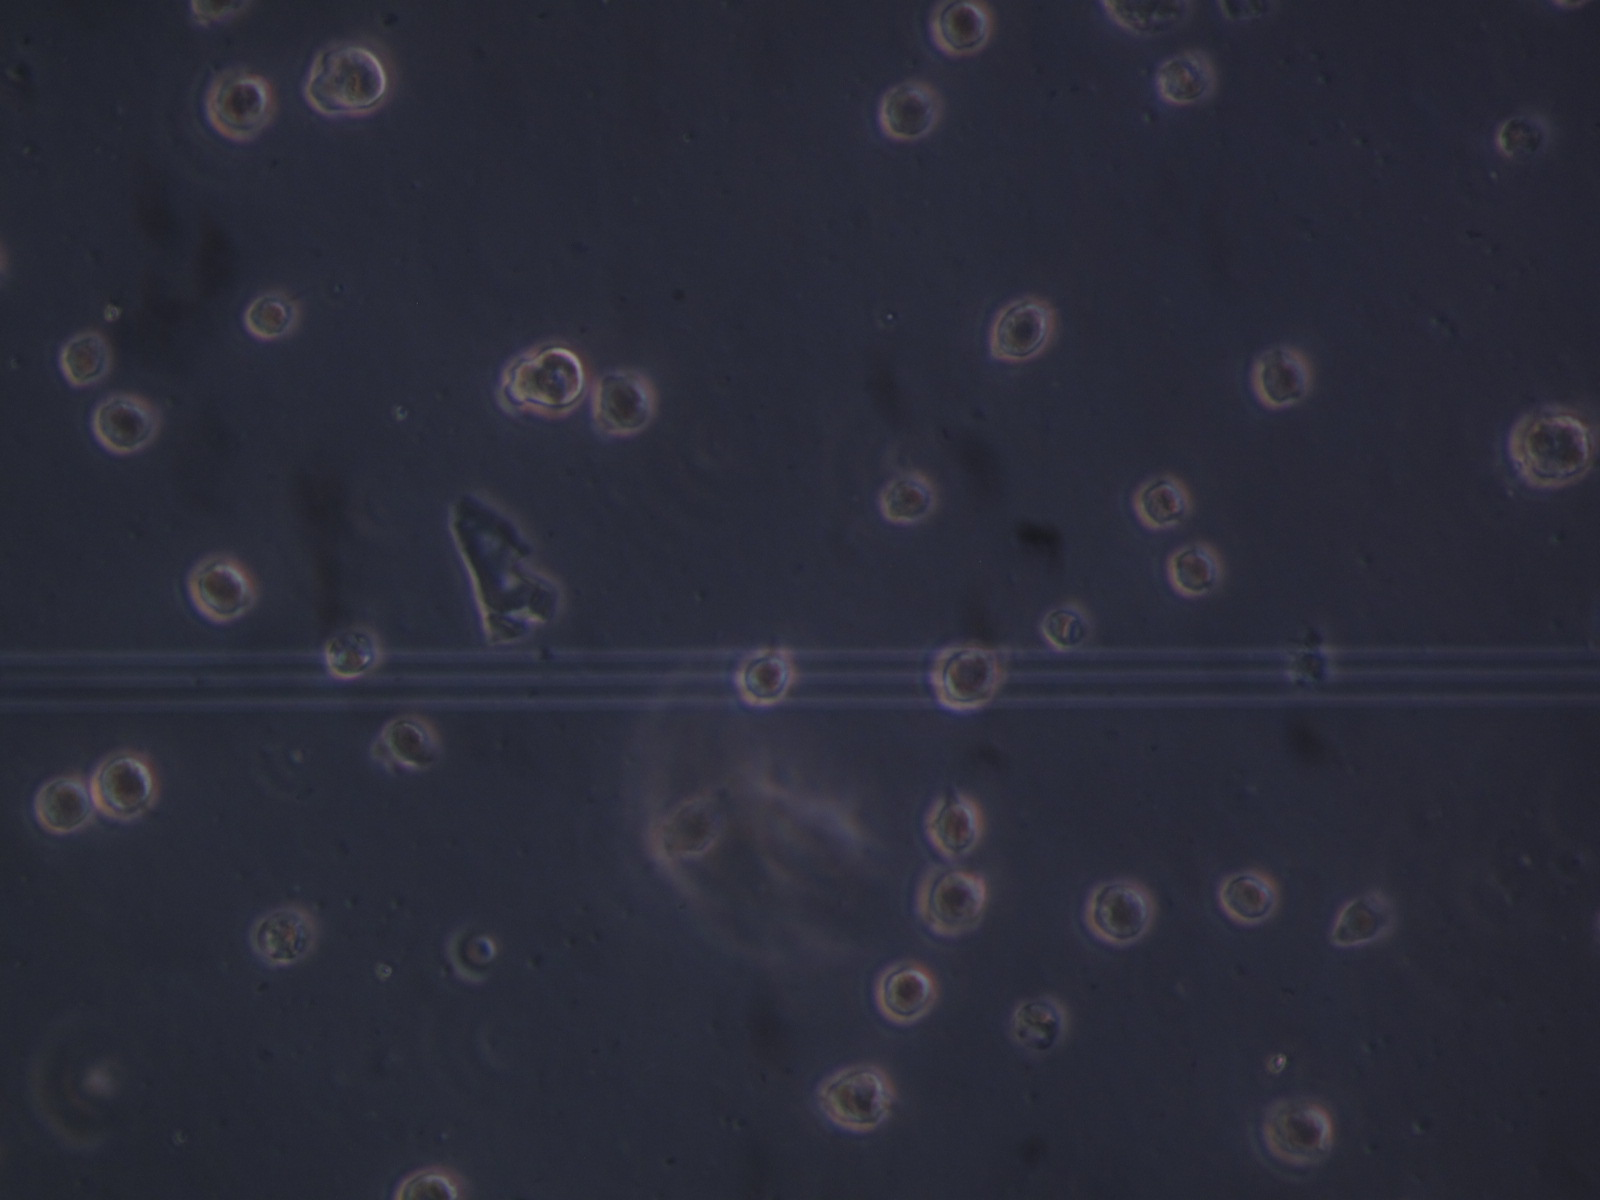hemo: (1503, 405, 1600, 494), (306, 45, 388, 116), (506, 347, 586, 418), (205, 66, 276, 140), (1087, 879, 1158, 950), (916, 867, 986, 938), (1264, 1097, 1335, 1165), (91, 751, 159, 821), (819, 1066, 888, 1132), (188, 551, 252, 621), (873, 959, 939, 1027), (592, 369, 658, 435), (1254, 343, 1315, 412), (931, 645, 998, 708), (244, 908, 314, 968), (991, 295, 1052, 361), (96, 395, 157, 455), (37, 775, 96, 838), (882, 79, 941, 142), (1217, 868, 1281, 926), (734, 647, 795, 707), (319, 624, 386, 678), (1333, 894, 1397, 948), (1134, 471, 1193, 529), (931, 1, 991, 57), (929, 794, 981, 856), (380, 713, 436, 771), (1014, 995, 1070, 1053), (1154, 55, 1214, 107), (1168, 542, 1222, 597), (446, 923, 493, 984), (62, 333, 115, 384), (1042, 597, 1094, 650), (1497, 111, 1553, 158), (882, 475, 936, 523), (248, 294, 301, 340), (398, 1170, 462, 1200)
